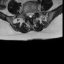CCS_normal: (29, 10, 31, 20)
LFS_stenosis: (33, 9, 35, 15)
LLS_normal: (31, 10, 33, 17)
RFS_normal: (25, 10, 27, 17)
RLS_normal: (27, 10, 29, 18)
